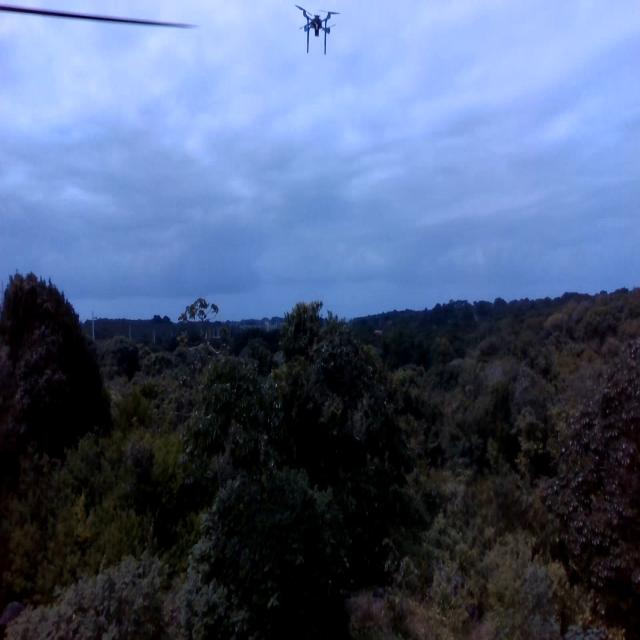-uav-: (290, 1, 343, 61)
